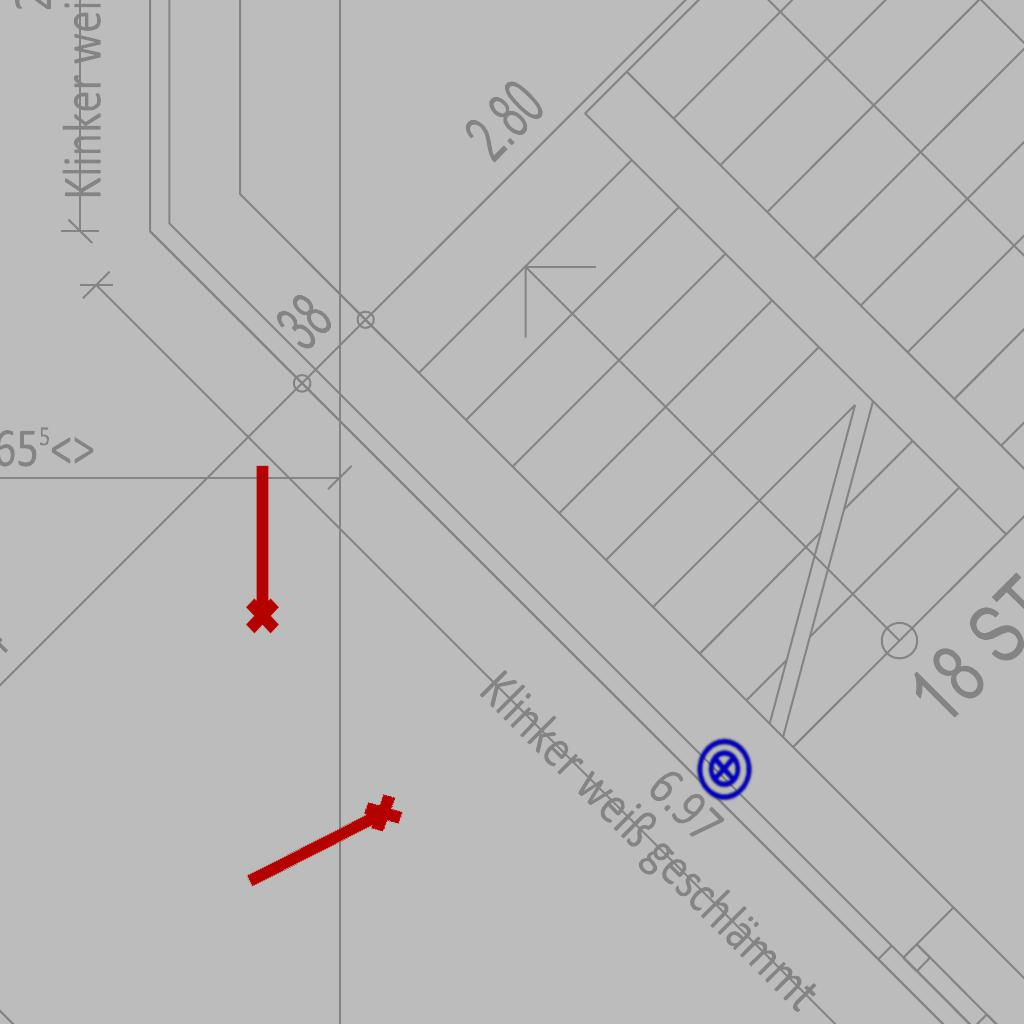ASR_Ansaugoeffnung: (235, 785, 413, 907), (237, 460, 283, 636)
Taster_beleuchtet: (691, 736, 757, 802)
